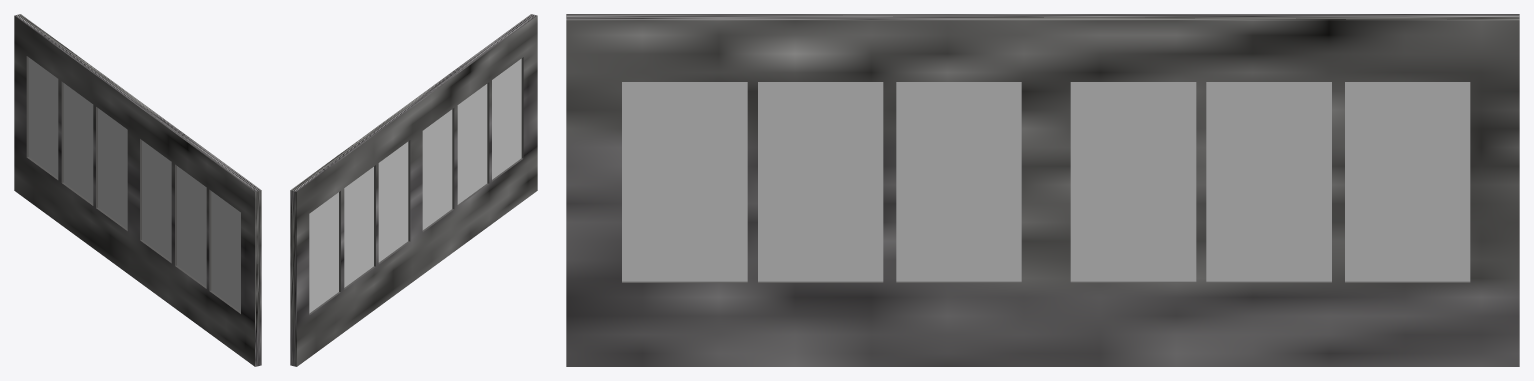
Rendered from IBRYNETKI.fbx.
The picture shows the model from 3 angles, left to right: view 1: azimuth 30°, elevation 25°; view 2: azimuth 150°, elevation 25°; view 3: azimuth 270°, elevation 25°; orthographic projection. The views are drawn at different scales.
Visible parts, largest first — view 1: Cube, Куб; view 2: Cube, Куб; view 3: Cube, Куб.
Boxes of the visible parts, x1,y1,x2,y2 form: Cube: (14,14,261,366); Куб: (28,57,240,311); Cube: (290,14,537,366); Куб: (309,58,521,313); Cube: (566,14,1519,366); Куб: (622,82,1470,281).
Bounding box in the file's own units: 38.44 × 984 × 2453.
